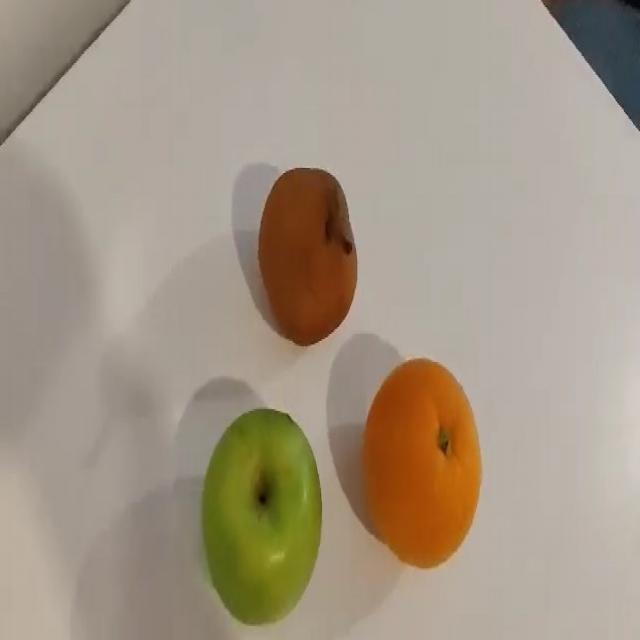Apple: (202, 405, 327, 621)
Orange: (361, 356, 485, 573)
